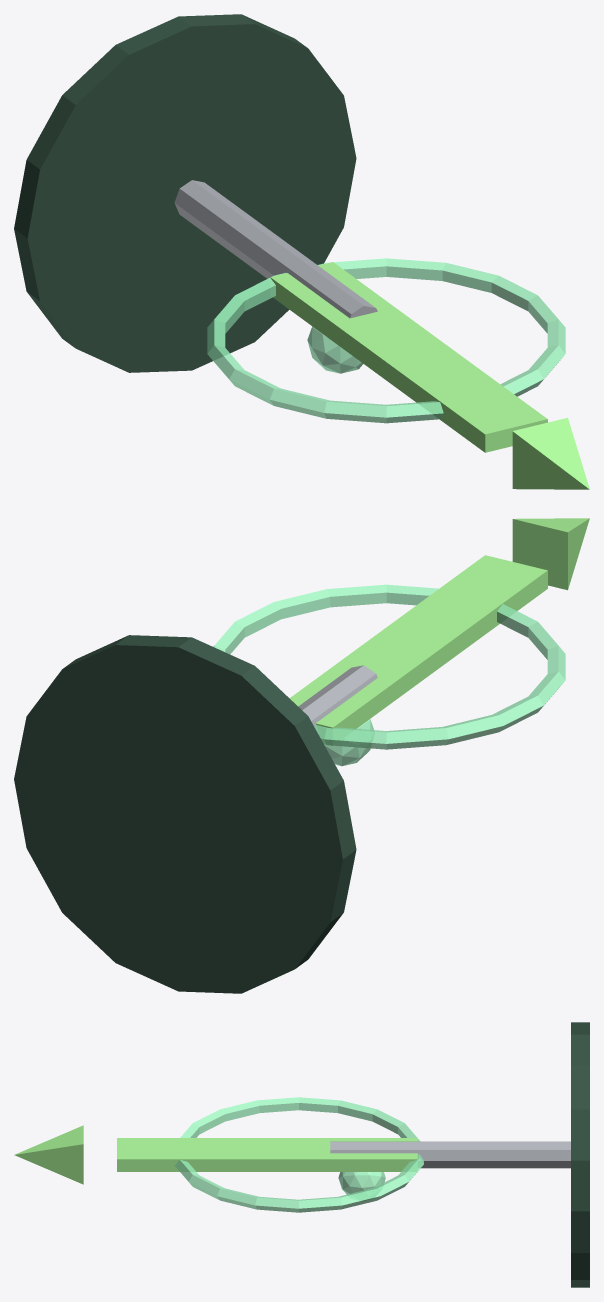
The model's file is 04_high_tier_magic_weapon_aura.glb.
The picture shows the model from 3 angles, top to bottom: view 1: azimuth 30°, elevation 25°; view 2: azimuth 150°, elevation 25°; view 3: azimuth 270°, elevation 25°; orthographic projection. The views are drawn at different scales.
Visible parts, largest first — view 1: weapon_display_base, magic_blade_core, weapon_enchant_orbit, weapon_grip, magic_blade_tip, weapon_gem; view 2: weapon_display_base, magic_blade_core, weapon_enchant_orbit, magic_blade_tip, weapon_grip, weapon_gem; view 3: magic_blade_core, weapon_enchant_orbit, weapon_grip, weapon_display_base, magic_blade_tip, weapon_gem.
Part boxes in pixels (bbox=[...]): weapon_display_base: bbox=[14, 14, 356, 372]; magic_blade_core: bbox=[270, 262, 547, 452]; weapon_enchant_orbit: bbox=[207, 258, 565, 423]; weapon_grip: bbox=[174, 180, 377, 318]; magic_blade_tip: bbox=[512, 417, 589, 489]; weapon_gem: bbox=[307, 326, 363, 373]; weapon_display_base: bbox=[14, 635, 356, 993]; magic_blade_core: bbox=[289, 555, 547, 745]; weapon_enchant_orbit: bbox=[213, 584, 565, 749]; magic_blade_tip: bbox=[512, 518, 589, 590]; weapon_grip: bbox=[298, 665, 377, 733]; weapon_gem: bbox=[324, 719, 373, 766]; magic_blade_core: bbox=[117, 1138, 417, 1171]; weapon_enchant_orbit: bbox=[175, 1097, 423, 1212]; weapon_grip: bbox=[330, 1141, 570, 1168]; weapon_display_base: bbox=[571, 1022, 589, 1287]; magic_blade_tip: bbox=[14, 1125, 83, 1184]; weapon_gem: bbox=[338, 1172, 385, 1194].
Size of the model in its own units: 0.84 by 0.84 by 1.82.
